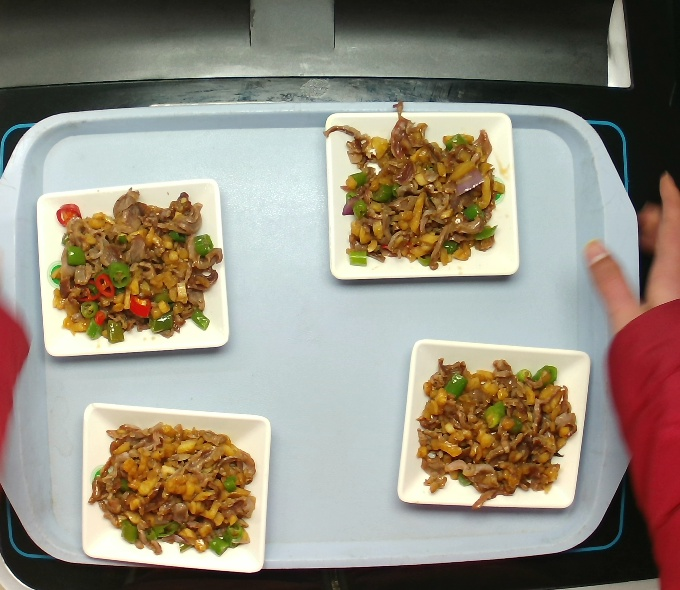wcq-ZhaCaiChaoJiZhen: (322, 98, 521, 285), (399, 345, 588, 513), (45, 185, 223, 346), (91, 415, 261, 562)
